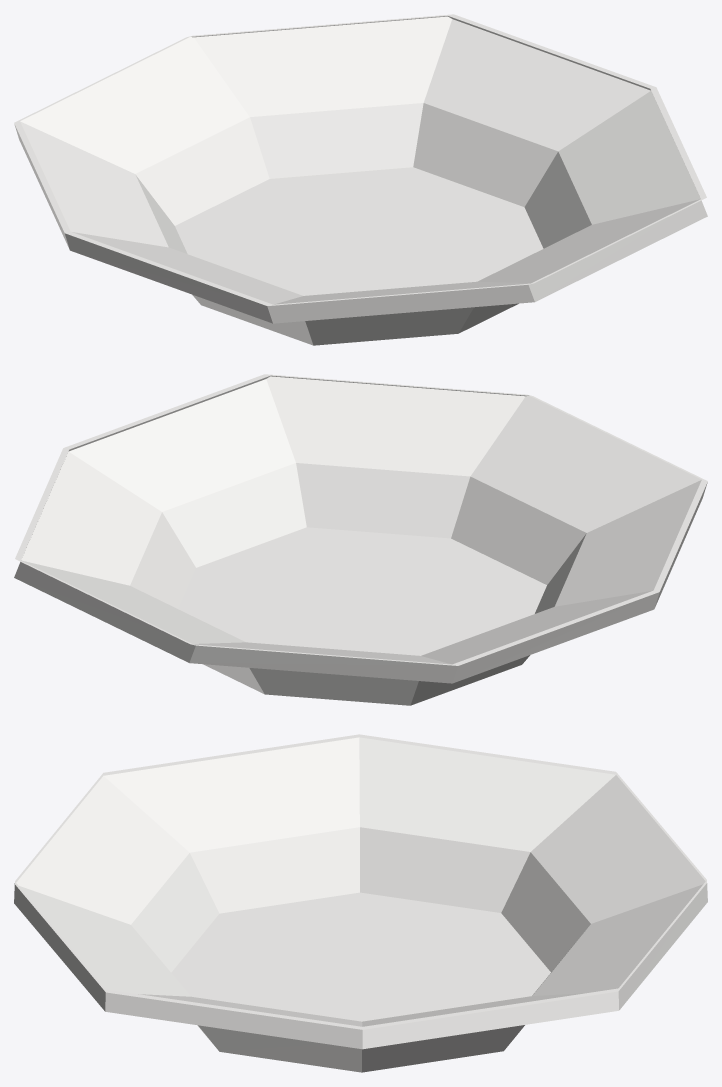
Rendered from Plate_4.fbx.
3 views of the same model, one above another, from view 1: azimuth 30°, elevation 25°; view 2: azimuth 150°, elevation 25°; view 3: azimuth 270°, elevation 25° (orthographic). The views are drawn at different scales.
Visible parts, largest first — view 1: Plate_4; view 2: Plate_4; view 3: Plate_4.
Part boxes in pixels (box(x1,y1,x2,y2)): Plate_4: box(14, 14, 707, 345); Plate_4: box(14, 374, 707, 705); Plate_4: box(14, 734, 707, 1072).
Size of the model in its own units: 43.71 by 43.32 by 7.47.
